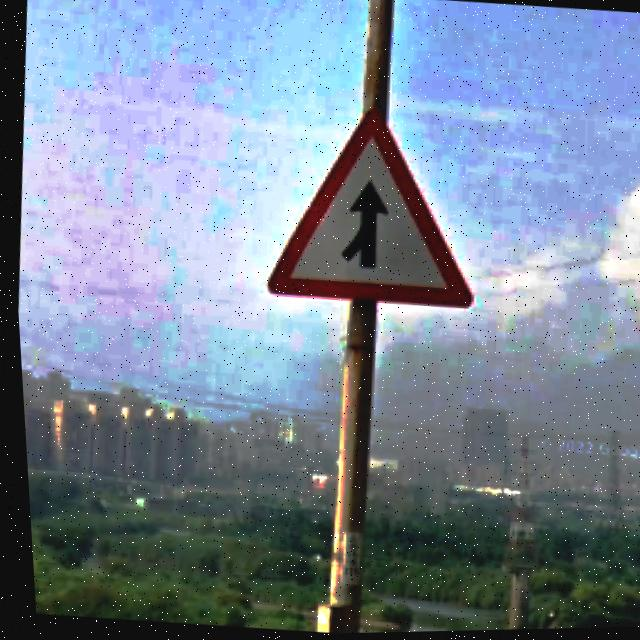leftmerge: (261, 108, 469, 313)
